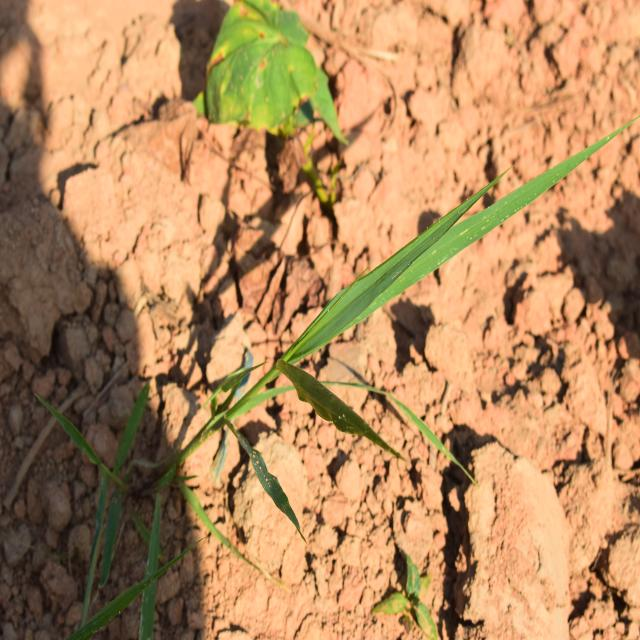green_foxtail: (254, 176, 584, 460)
